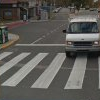crosswalk: (0, 51, 100, 90)
